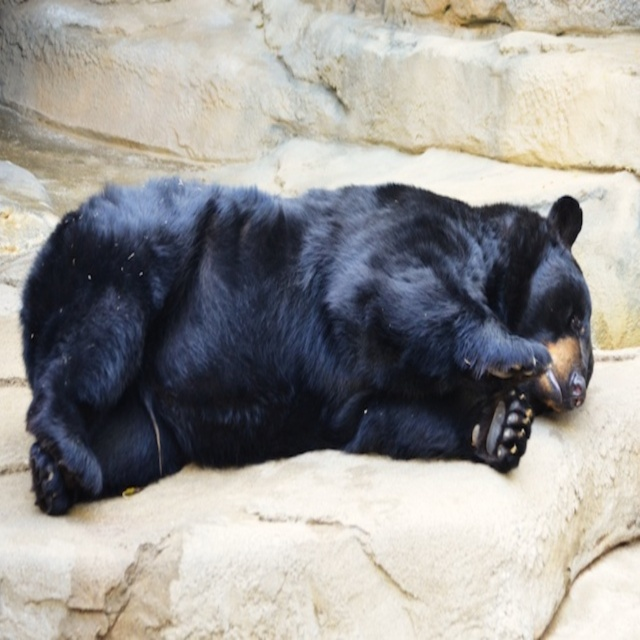Bear: (19, 173, 592, 515)
